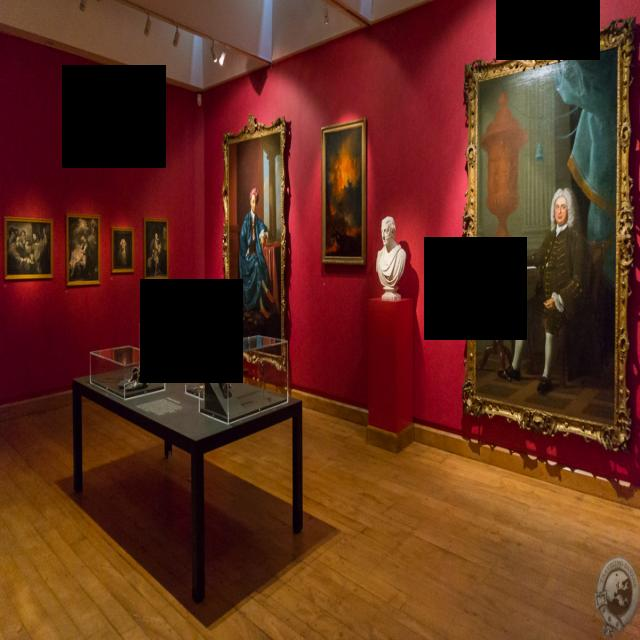Tablo: (474, 43, 621, 428), (227, 129, 281, 358), (323, 123, 363, 260), (5, 220, 51, 275), (67, 216, 99, 283), (145, 220, 167, 278), (112, 228, 133, 270)
